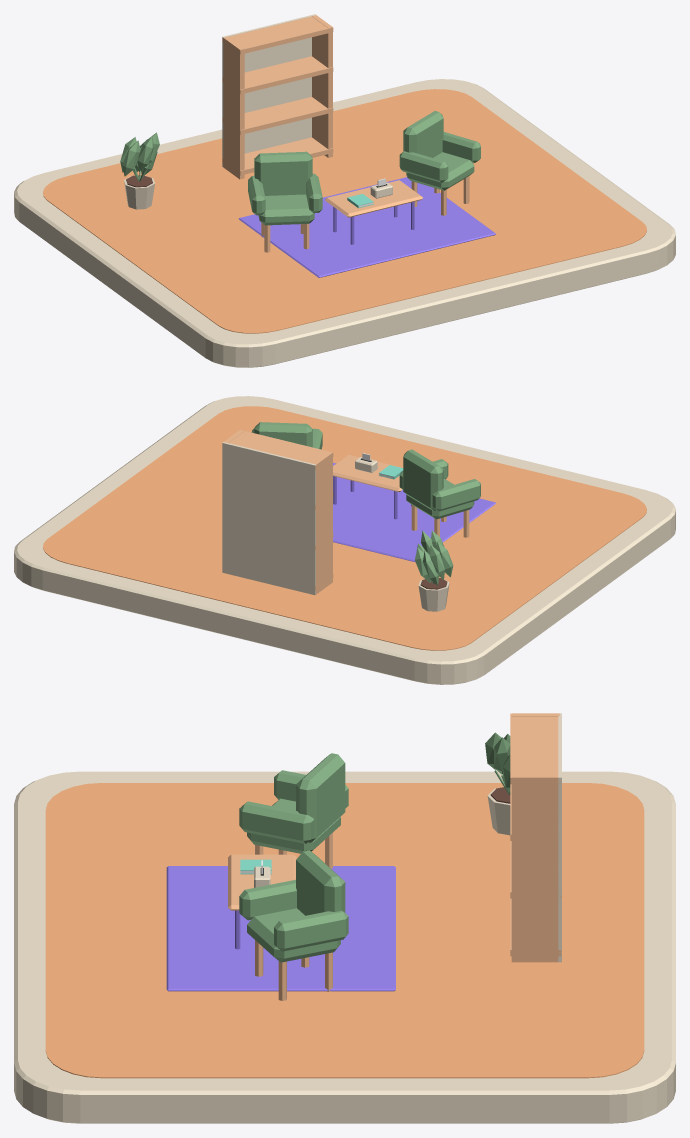
3 renders of one model, top to bottom at view 1: azimuth 30°, elevation 25°; view 2: azimuth 150°, elevation 25°; view 3: azimuth 270°, elevation 25°, orthographic. The views are drawn at different scales.
Visible parts, largest first — view 1: COM-02 Floor Surface, COM-01 Rounded Base Direct, Rug, Back.002, Side, Back, Pot, Side.001, Shelf.003, Shelf.002, Shelf.001, Rounded table top (+8 smaller); view 2: COM-02 Floor Surface, COM-01 Rounded Base Direct, Back.002, Rug, Pot, Side, Back, Shelf.003, Rounded table top, Arm, Back.001, Cushion; view 3: COM-02 Floor Surface, COM-01 Rounded Base Direct, Rug, Side.001, Shelf.003, Back, Back.001, Arm.001, Arm.003, Pot, Cushion.001, Rounded table top (+4 smaller).
Part boxes in pixels (left/top/right/bottom): COM-02 Floor Surface: left=43, top=89, right=646, bottom=333; COM-01 Rounded Base Direct: left=14, top=79, right=675, bottom=367; Rug: left=239, top=177, right=495, bottom=277; Back.002: left=222, top=14, right=315, bottom=167; Side: left=223, top=36, right=244, bottom=179; Back: left=254, top=151, right=312, bottom=195; Pot: left=120, top=132, right=159, bottom=209; Side.001: left=312, top=14, right=332, bottom=157; Shelf.003: left=222, top=16, right=333, bottom=54; Shelf.002: left=222, top=56, right=333, bottom=94; Shelf.001: left=222, top=97, right=333, bottom=134; Rounded table top: left=325, top=180, right=422, bottom=217; COM-02 Floor Surface: left=43, top=406, right=646, bottom=650; COM-01 Rounded Base Direct: left=14, top=396, right=675, bottom=684; Back.002: left=222, top=442, right=315, bottom=595; Rug: left=333, top=462, right=495, bottom=562; Pot: left=415, top=530, right=453, bottom=611; Side: left=312, top=451, right=332, bottom=594; Back: left=403, top=449, right=443, bottom=510; Shelf.003: left=229, top=430, right=333, bottom=469; Rounded table top: left=333, top=454, right=402, bottom=491; Arm: left=432, top=479, right=480, bottom=511; Back.001: left=254, top=422, right=312, bottom=447; Cushion: left=406, top=479, right=474, bottom=519; COM-02 Floor Surface: left=45, top=783, right=644, bottom=1078; COM-01 Rounded Base Direct: left=14, top=771, right=675, bottom=1123; Rug: left=166, top=866, right=395, bottom=991; Side.001: left=511, top=774, right=559, bottom=962; Shelf.003: left=510, top=713, right=560, bottom=784; Back: left=296, top=753, right=345, bottom=842; Back.001: left=296, top=850, right=345, bottom=915; Arm.001: left=239, top=801, right=314, bottom=843; Arm.003: left=274, top=910, right=348, bottom=951; Pot: left=485, top=732, right=510, bottom=835; Cushion.001: left=247, top=908, right=340, bottom=962; Rounded table top: left=228, top=854, right=296, bottom=910.
Size of the model in its own units: 6 by 1.9 by 5.2.
1 material, 1 textured.
